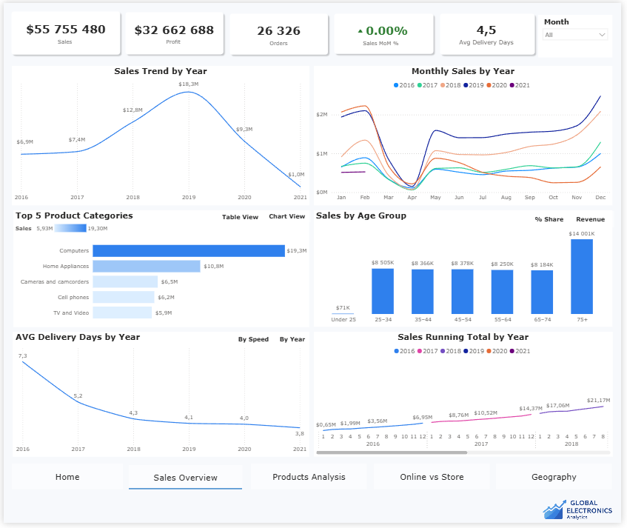

Layout of this report page (visuals, bound fields, positions):
{"tool":"powerbi","page":{"name":"Sales Overview","canvas":[1390,1170],"ordinal":1},"visuals":[{"type":"shape","box":[10,11.1,259.2,111.5],"z":0,"group":"g1"},{"type":"shape","box":[267.4,13.2,234.9,109.3],"z":0,"group":"g2"},{"type":"shape","box":[502.4,15.8,235.4,106.7],"z":0,"group":"g3"},{"type":"shape","box":[974.8,17.3,227.6,106.6],"z":0,"group":"g5"},{"type":"shape","box":[737.5,17.4,237.8,104.9],"z":0,"group":"g4"},{"type":"barChart","title":"Top 5 Product Categories","fields":{"Category":["DimCategory.Category"],"Y":["_Measure.Sales Selected Currency"]},"box":[22.3,466.5,665.7,263.3],"z":0,"group":"g6"},{"type":"card","fields":{"Values":["_Measure.Sales Selected Currency"]},"box":[21.8,21.8,236.5,91.2],"z":1000,"group":"g1"},{"type":"card","fields":{"Values":["_Measure.Profit Selected Currency"]},"box":[278.1,23.7,214.4,89.3],"z":1000,"group":"g2"},{"type":"card","fields":{"Values":["_Measure.Orders"]},"box":[513.1,26.1,214.8,87.2],"z":1000,"group":"g3"},{"type":"lineChart","title":"Sales Trend by Year","fields":{"Category":["DimCalendar.Year","DimCalendar.MonthNumber"],"Y":["_Measure.Sales Selected Currency"]},"box":[17.8,142.1,670.4,313.8],"z":1000,"group":"g6"},{"type":"clusteredColumnChart","title":"Sales by Age Group","fields":{"Category":["DimCustomers.Age Group"],"Y":["_Measure.Sales Selected Currency"]},"box":[698.4,467.4,671.8,262.4],"z":2000,"group":"g6"},{"type":"card","fields":{"Values":["_Measure.Sales MoM % Display"]},"box":[760.1,21.7,182.7,98.7],"z":3000,"group":"g4"},{"type":"clusteredColumnChart","title":"Sales Share % by Age Group","fields":{"Category":["DimCustomers.Age Group"],"Y":["_Measure.Sales Share % (Age)"]},"box":[699.3,466.5,670,262.4],"z":6000,"group":"g6"},{"type":"actionButton","title":"Chart View","box":[584.9,467.1,106,26.9],"z":7000,"group":"g6"},{"type":"actionButton","title":"Table View","box":[479.7,467.8,105.4,26.8],"z":8000,"group":"g6"},{"type":"lineChart","title":"Monthly Sales by Year","fields":{"Category":["DimCalendar.Month"],"Series":["DimCalendar.Year"],"Y":["_Measure.Sales Selected Currency"]},"box":[698.3,142.1,671.5,313.8],"z":9000,"group":"g6"},{"type":"slicer","fields":{"Values":["DimCalendar.MonthFull"]},"box":[1202.8,27.2,167,95.9],"z":10000,"group":"g6"},{"type":"lineChart","title":"AVG Delivery Days by Year","fields":{"Category":["DimCalendar.Year"],"Y":["_Measure.Avg Delivery Days"]},"box":[21.5,739.8,665.7,281.5],"z":11000,"group":"g6"},{"type":"actionButton","title":"By Speed","box":[512.8,739.6,98.1,34.5],"z":12000,"group":"g6"},{"type":"actionButton","box":[282.2,1039.3,255.7,55.3],"z":13000,"group":"g6"},{"type":"actionButton","title":"By Year","box":[611.8,739.6,76.6,34.5],"z":14000,"group":"g6"},{"type":"lineChart","title":"Sales Running Total by Year","fields":{"Category":["DimCalendar.Year","DimCalendar.MonthNumber"],"Series":["DimCalendar.Year"],"Y":["_Measure.Sales Running Total"]},"box":[697.8,739.6,672.6,281.3],"z":15000,"group":"g6"},{"type":"actionButton","box":[18.3,1036.2,250.4,57.9],"z":16000,"group":"g6"},{"type":"group","id":"g1","title":"Group 1","box":[10,11.1,258.8,112.2],"z":17000,"group":"g6"},{"type":"group","id":"g2","title":"Group 1","box":[267.4,13.2,235.4,110],"z":18000,"group":"g6"},{"type":"group","id":"g3","title":"Group 1","box":[502.4,15.8,235.4,106.6],"z":19000,"group":"g6"},{"type":"card","fields":{"Values":["_Measure.Avg Delivery Days"]},"box":[993.5,27.3,186.7,85.4],"z":20000,"group":"g5"},{"type":"actionButton","box":[556.8,1036.2,261.5,57.9],"z":20000,"group":"g6"},{"type":"group","id":"g4","title":"Group 2","box":[737.5,17.4,237.8,104.9],"z":21000,"group":"g6"},{"type":"actionButton","box":[1108.3,1036.2,261.5,57.9],"z":22000,"group":"g6"},{"type":"group","id":"g5","title":"Group 3","box":[974.8,17.3,227.6,106.6],"z":23000,"group":"g6"},{"type":"image","box":[1206.3,1111.4,173.1,58.6],"z":24000,"group":"g6"},{"type":"actionButton","box":[833.4,1036.2,261.5,57.9],"z":25000,"group":"g6"},{"type":"shape","box":[282.4,1083.6,255.3,19.7],"z":26000,"group":"g6"},{"type":"actionButton","title":"% Share_button","box":[1180.7,467.5,95.9,36.8],"z":27000,"group":"g6"},{"type":"actionButton","title":"Revenue_button","box":[1267.9,467.5,105.9,36.8],"z":28000,"group":"g6"},{"type":"group","id":"g6","title":"Group 4","box":[10,8.3,1370,1161.7],"z":32001}]}

Visuals, with their boxes in screenshot pixels (x1, y1, x2, y2), scaled from the page's 1390x1170 canvas onto the 628x528 screenshot:
shape: x1=5, y1=5, x2=122, y2=55
shape: x1=121, y1=6, x2=227, y2=55
shape: x1=227, y1=7, x2=333, y2=55
shape: x1=440, y1=8, x2=543, y2=56
shape: x1=333, y1=8, x2=441, y2=55
"Top 5 Product Categories" barChart: x1=10, y1=211, x2=311, y2=329
card - _Measure.Sales Selected Currency: x1=10, y1=10, x2=117, y2=51
card - _Measure.Profit Selected Currency: x1=126, y1=11, x2=223, y2=51
card - _Measure.Orders: x1=232, y1=12, x2=329, y2=51
"Sales Trend by Year" lineChart: x1=8, y1=64, x2=311, y2=206
"Sales by Age Group" clusteredColumnChart: x1=316, y1=211, x2=619, y2=329
card - _Measure.Sales MoM % Display: x1=343, y1=10, x2=426, y2=54
"Sales Share % by Age Group" clusteredColumnChart: x1=316, y1=211, x2=619, y2=329
"Chart View" actionButton: x1=264, y1=211, x2=312, y2=223
"Table View" actionButton: x1=217, y1=211, x2=264, y2=223
"Monthly Sales by Year" lineChart: x1=315, y1=64, x2=619, y2=206
slicer - DimCalendar.MonthFull: x1=543, y1=12, x2=619, y2=56
"AVG Delivery Days by Year" lineChart: x1=10, y1=334, x2=310, y2=461
"By Speed" actionButton: x1=232, y1=334, x2=276, y2=349
actionButton: x1=127, y1=469, x2=243, y2=494
"By Year" actionButton: x1=276, y1=334, x2=311, y2=349
"Sales Running Total by Year" lineChart: x1=315, y1=334, x2=619, y2=461
actionButton: x1=8, y1=468, x2=121, y2=494
"Group 1" group: x1=5, y1=5, x2=121, y2=56
"Group 1" group: x1=121, y1=6, x2=227, y2=56
"Group 1" group: x1=227, y1=7, x2=333, y2=55
card - _Measure.Avg Delivery Days: x1=449, y1=12, x2=533, y2=51
actionButton: x1=252, y1=468, x2=370, y2=494
"Group 2" group: x1=333, y1=8, x2=441, y2=55
actionButton: x1=501, y1=468, x2=619, y2=494
"Group 3" group: x1=440, y1=8, x2=543, y2=56
image: x1=545, y1=502, x2=623, y2=527
actionButton: x1=377, y1=468, x2=495, y2=494
shape: x1=128, y1=489, x2=243, y2=498
"% Share_button" actionButton: x1=533, y1=211, x2=577, y2=228
"Revenue_button" actionButton: x1=573, y1=211, x2=621, y2=228
"Group 4" group: x1=5, y1=4, x2=623, y2=527
